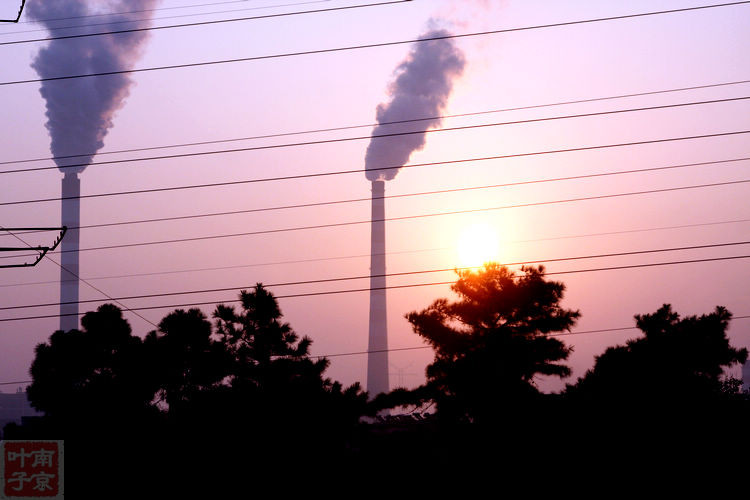dust: (22, 3, 164, 180), (356, 21, 473, 178)
